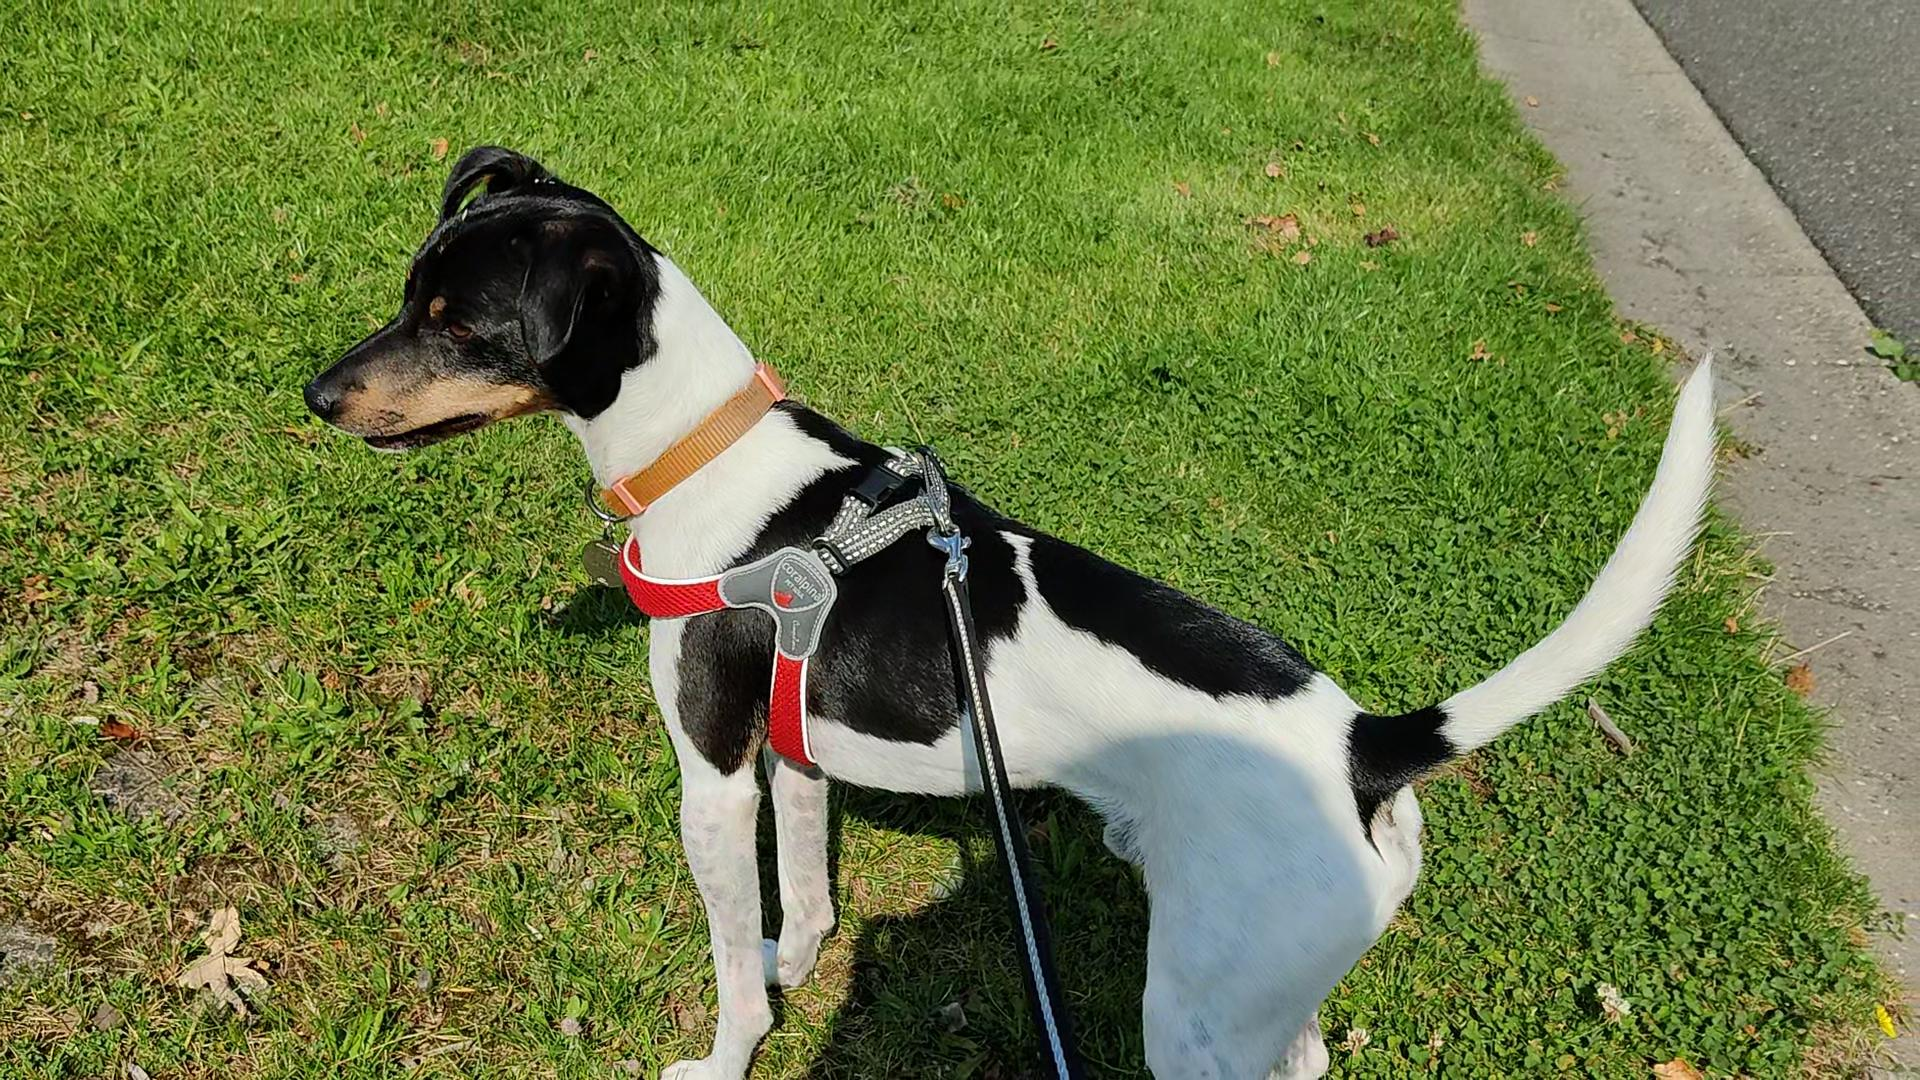Dog: (291, 136, 1734, 1079)
